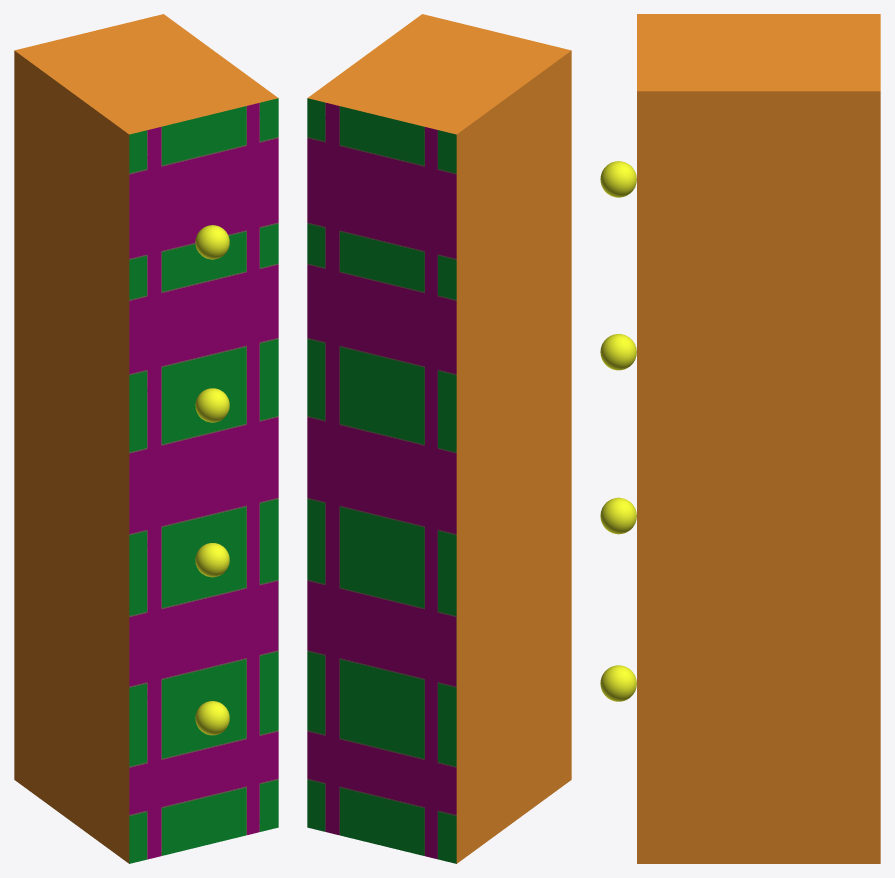
File: mueblehab.FBX
3 renders of one model, left to right at view 1: azimuth 30°, elevation 25°; view 2: azimuth 150°, elevation 25°; view 3: azimuth 270°, elevation 25°, orthographic. The views are drawn at different scales.
Parts seen in each view (by area): view 1: Sphere004; view 2: Sphere004; view 3: Sphere004.
Part boxes in pixels (x1,y1,x2,y2): Sphere004: [14, 14, 278, 863]; Sphere004: [307, 14, 571, 863]; Sphere004: [600, 14, 880, 863].
Bounding box in the file's own units: 30 × 140 × 46.
